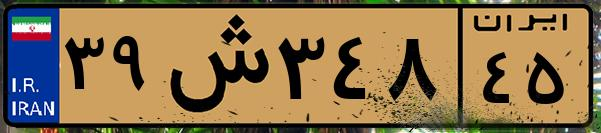3: (270, 28, 330, 110), (57, 26, 110, 100)
4: (330, 28, 385, 110), (475, 38, 525, 113)
5: (525, 38, 570, 115)
8: (385, 28, 445, 110)
9: (110, 28, 158, 98)
ش: (158, 12, 270, 120)
